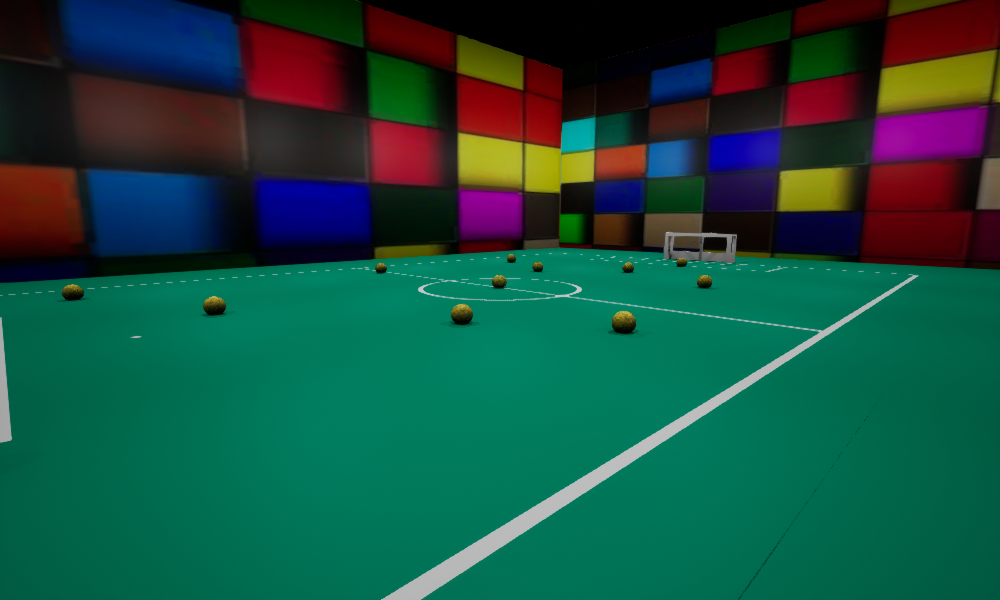b: (612, 311, 635, 332), (451, 304, 472, 323), (203, 296, 225, 314), (62, 284, 83, 299), (697, 275, 711, 287), (492, 275, 506, 287), (375, 263, 386, 272), (622, 262, 633, 271), (532, 262, 542, 271), (676, 258, 686, 266), (507, 254, 515, 261)
g: (664, 232, 736, 262)
